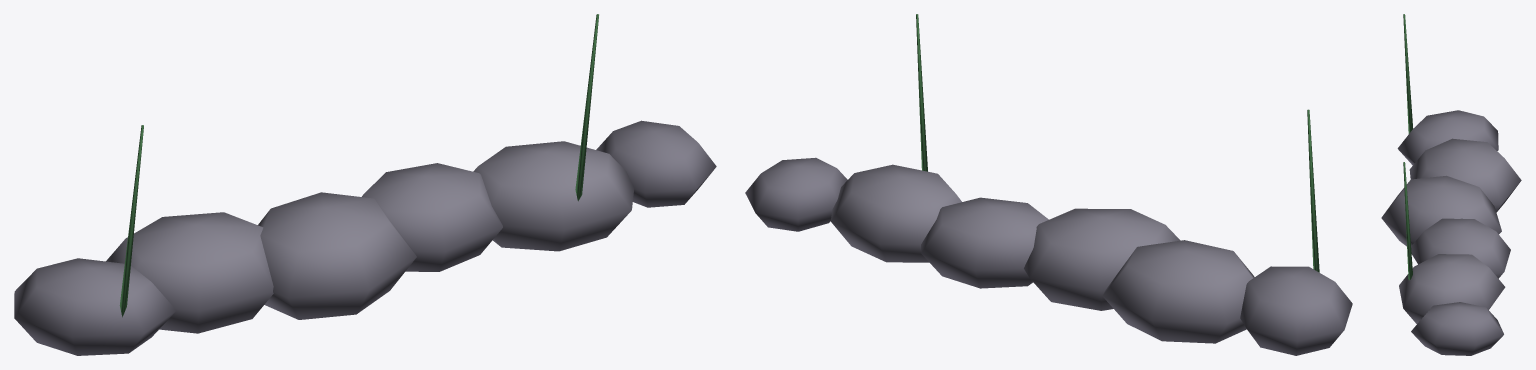
File: pond_edge.glb
3 renders of one model, left to right at view 1: azimuth 30°, elevation 25°; view 2: azimuth 150°, elevation 25°; view 3: azimuth 270°, elevation 25°, orthographic. The views are drawn at different scales.
Visible parts, largest first — view 1: pond_edge; view 2: pond_edge; view 3: pond_edge.
Boxes of the visible parts, <box> form: pond_edge: <box>14,14,716,355</box>; pond_edge: <box>745,14,1352,355</box>; pond_edge: <box>1381,14,1521,355</box>.
Bounding box in the file's own units: 2.05 × 0.7203 × 0.5456.
